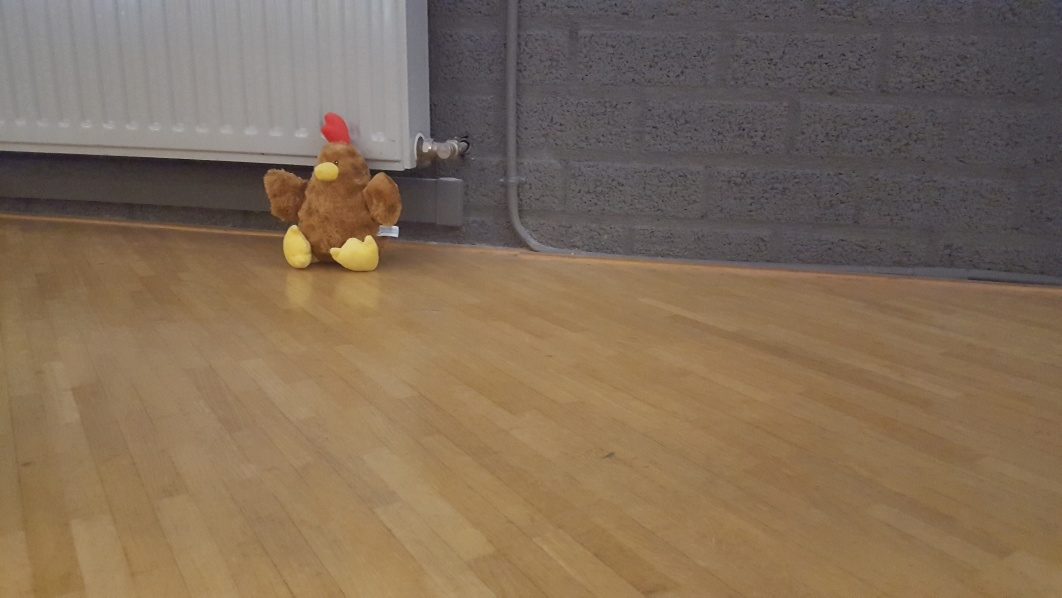chicken: (259, 112, 404, 272)
